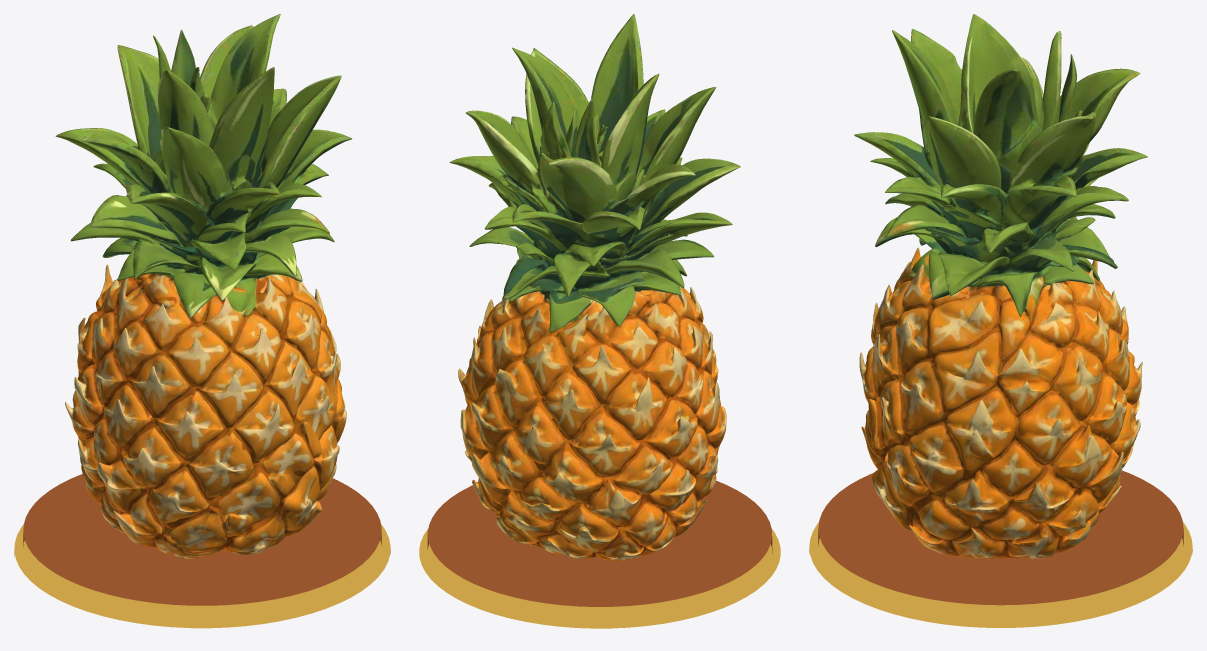
Rendered from pina.glb.
The picture shows the model from 3 angles, left to right: view 1: azimuth 30°, elevation 25°; view 2: azimuth 150°, elevation 25°; view 3: azimuth 270°, elevation 25°; orthographic projection. The views are drawn at different scales.
Visible parts, largest first — view 1: object 1, pedestal; view 2: object 1, pedestal; view 3: object 1, pedestal.
Boxes of the visible parts, x1=… form: object 1: x1=55, y1=14, x2=352, y2=558; pedestal: x1=14, y1=474, x2=390, y2=628; object 1: x1=449, y1=14, x2=740, y2=560; pedestal: x1=419, y1=480, x2=780, y2=628; object 1: x1=854, y1=14, x2=1147, y2=558; pedestal: x1=809, y1=470, x2=1192, y2=627.
Size of the model in its own units: 1.3 by 2.01 by 1.3.
Materials: 3 (1 with a texture image).
